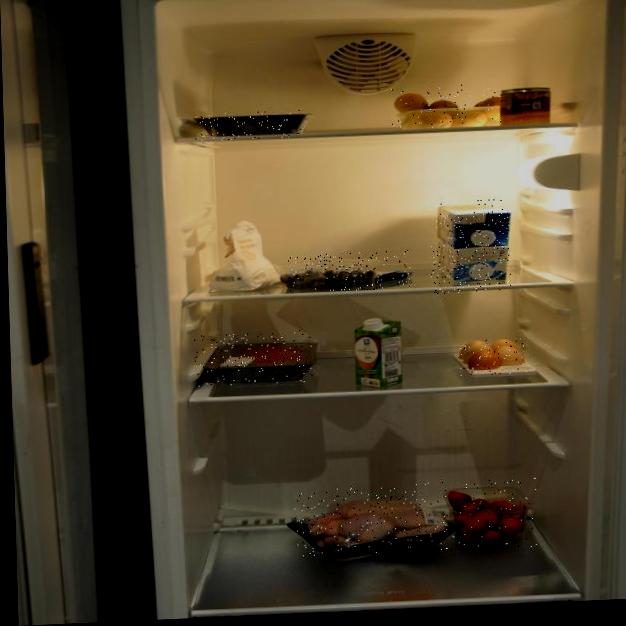chicken: (294, 482, 444, 558)
eggs: (459, 338, 527, 377)
meat: (194, 330, 313, 387), (195, 110, 303, 142)
milk: (429, 242, 511, 294), (436, 199, 511, 252)
olive: (288, 250, 412, 294)
potatoes: (388, 83, 502, 130)
tomatoes: (437, 478, 538, 552)
